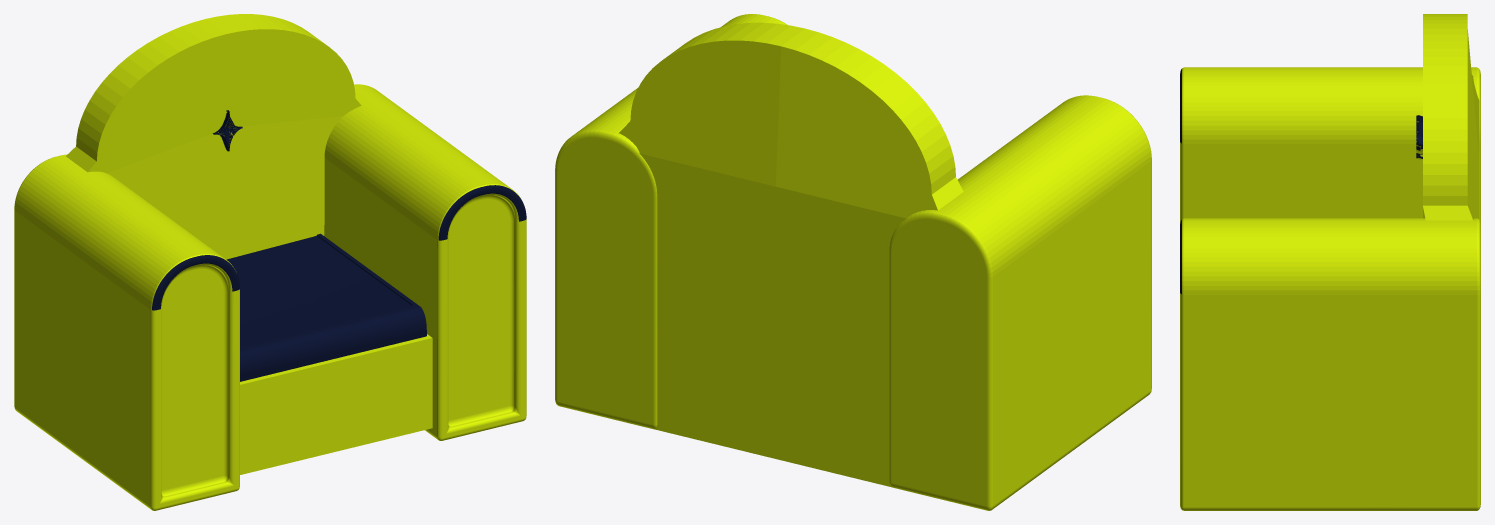
File: sofa.glb
3 renders of one model, left to right at view 1: azimuth 30°, elevation 25°; view 2: azimuth 150°, elevation 25°; view 3: azimuth 270°, elevation 25°, orthographic. The views are drawn at different scales.
Visible parts, largest first — view 1: Plane.006; view 2: Plane.006; view 3: Plane.006.
Part boxes in pixels (x1,y1,x2,y2): Plane.006: [14, 14, 526, 510]; Plane.006: [555, 14, 1151, 510]; Plane.006: [1180, 14, 1480, 510].
Size of the model in its own units: 4.25 by 3.8 by 2.73.
